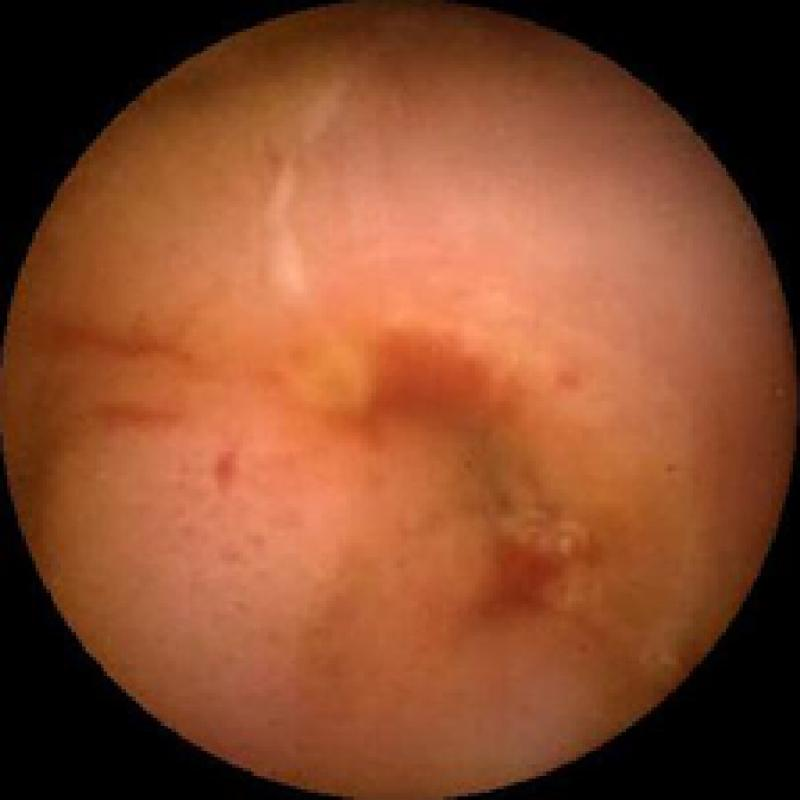bleeding: (72, 310, 187, 432), (371, 329, 486, 432), (463, 538, 549, 618), (210, 439, 252, 492)
